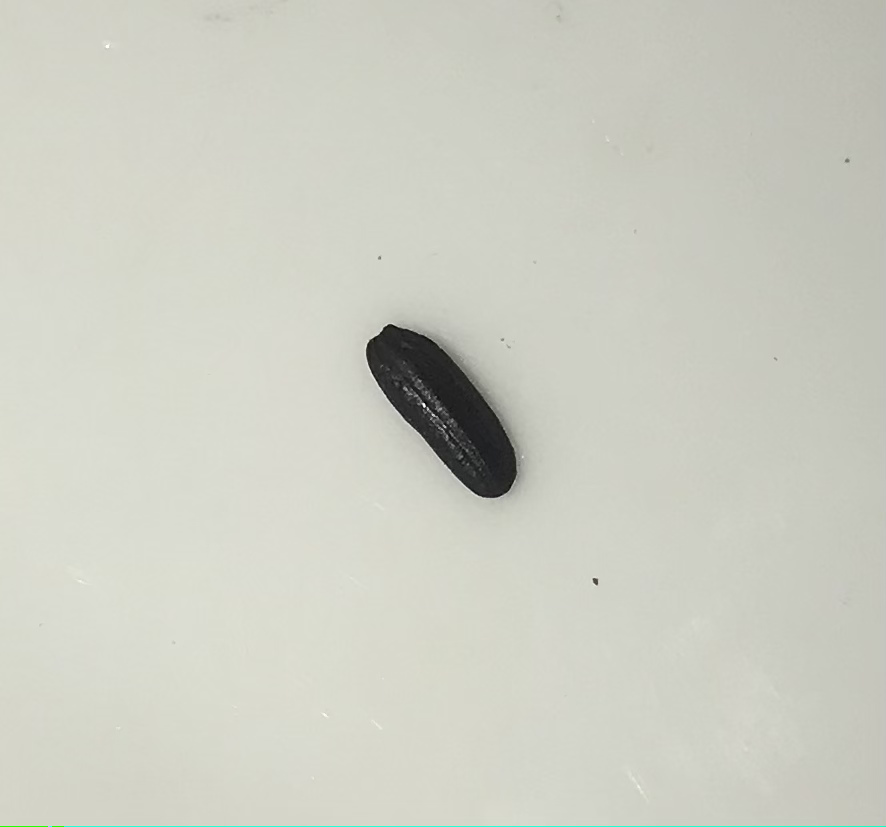Gao Nep Cam: (354, 324, 526, 503)
